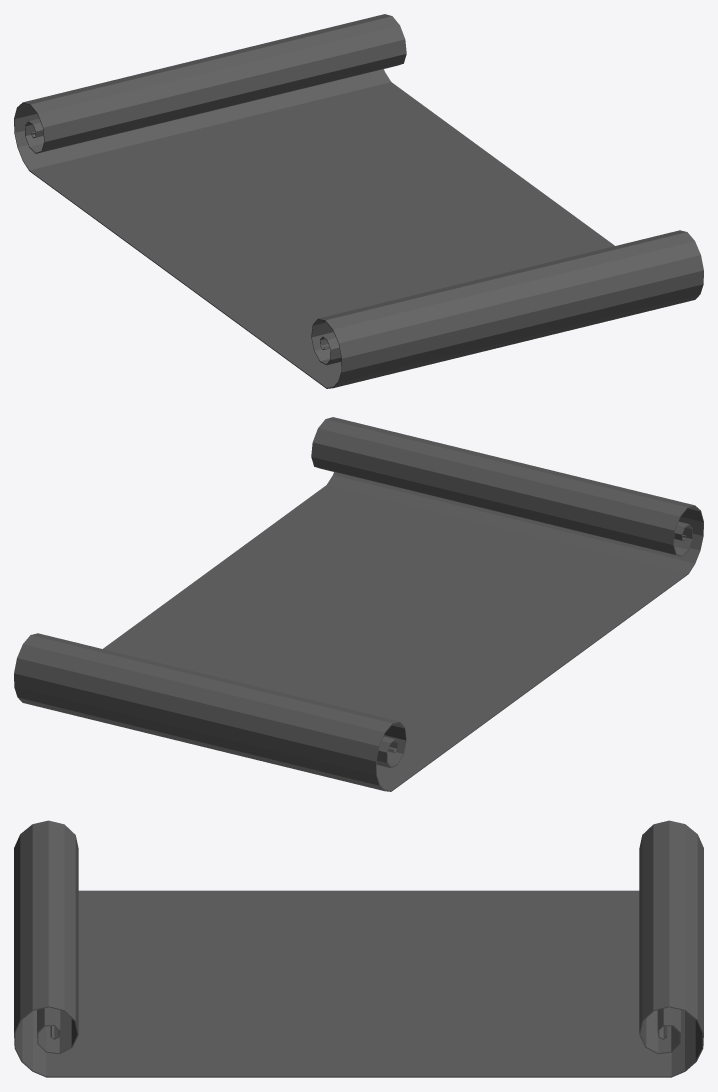
Rendered from CrumpledPaper_01.fbx.
3 views of the same model, one above another, from view 1: azimuth 30°, elevation 25°; view 2: azimuth 150°, elevation 25°; view 3: azimuth 270°, elevation 25° (orthographic). The views are drawn at different scales.
Parts seen in each view (by area): view 1: CrumpledPaper_01; view 2: CrumpledPaper_01; view 3: CrumpledPaper_01.
Part boxes in pixels (left/top/right/bottom): CrumpledPaper_01: left=14, top=14, right=703, bottom=388; CrumpledPaper_01: left=14, top=417, right=703, bottom=791; CrumpledPaper_01: left=14, top=820, right=703, bottom=1077.
Bounding box in the file's own units: 19.27 × 3.44 × 30.24.
